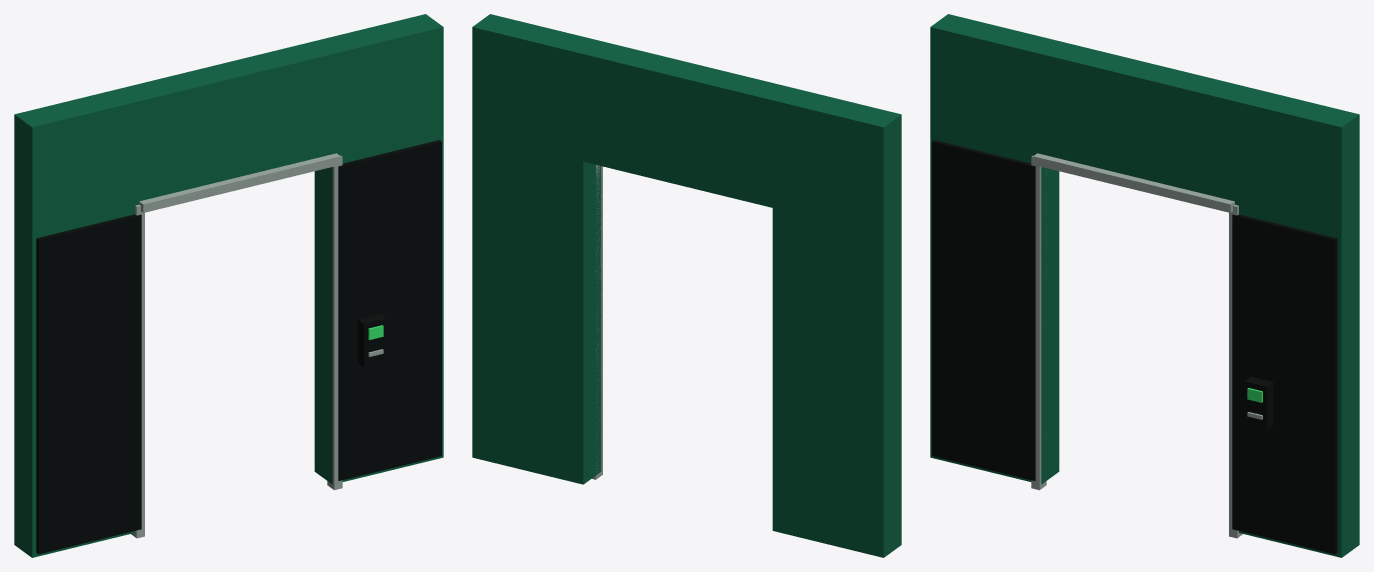
File: EmergencyExitFrame.obj
3 views of the same model, side by side, from view 1: azimuth 30°, elevation 25°; view 2: azimuth 150°, elevation 25°; view 3: azimuth 330°, elevation 25° (orthographic).
Parts seen in each view (by area): view 1: EmergencyExitFrame; view 2: EmergencyExitFrame; view 3: EmergencyExitFrame.
Boxes of the visible parts, <box> form: EmergencyExitFrame: <box>14,14,443,557</box>; EmergencyExitFrame: <box>472,14,901,557</box>; EmergencyExitFrame: <box>930,14,1359,557</box>.
Size of the model in its own units: 4 by 4.04 by 0.469.
